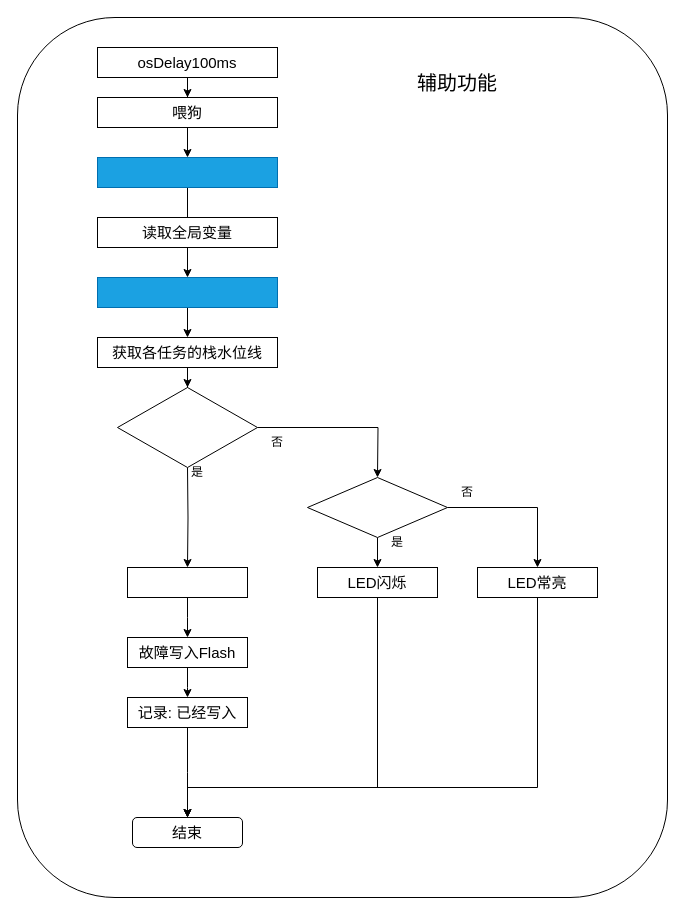
The diagram is 685 pixels wide and 915 high, and some of its shapes have lost their labels. Each missing label, with the centre of its shape:
"LED熄灭" goes at (x=187, y=582).
"是否故障?" goes at (x=187, y=427).
"申请全局变量Mutex" goes at (x=187, y=172).
"电量是否<20?" goes at (x=377, y=507).
"释放全局变量Mutex" goes at (x=187, y=292).
